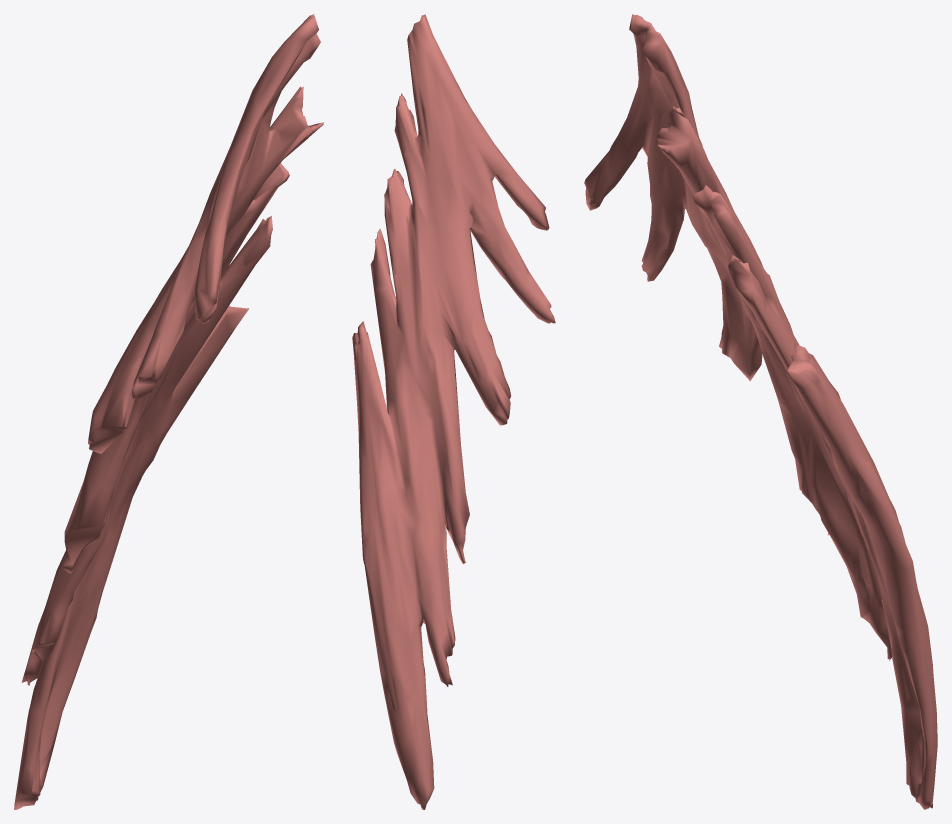
3 renders of one model, left to right at view 1: azimuth 30°, elevation 25°; view 2: azimuth 150°, elevation 25°; view 3: azimuth 270°, elevation 25°, orthographic. The views are drawn at different scales.
Visible parts, largest first — view 1: ZA_51f4044077f9ad17; view 2: ZA_51f4044077f9ad17; view 3: ZA_51f4044077f9ad17.
Part boxes in pixels (<box>): ZA_51f4044077f9ad17: <box>14,14,323,809</box>; ZA_51f4044077f9ad17: <box>352,14,555,809</box>; ZA_51f4044077f9ad17: <box>584,14,937,809</box>.
Size of the model in its own units: 0.034 by 0.1425 by 0.0527.
